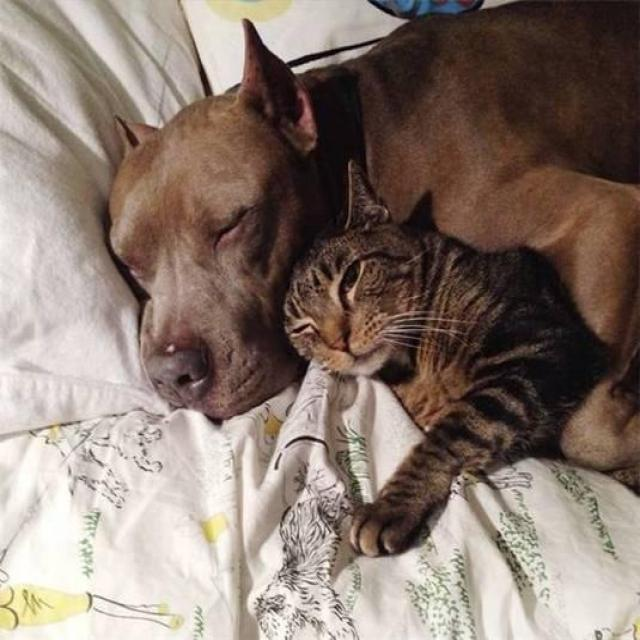cat: (269, 202, 459, 398)
dog: (78, 37, 312, 424)
